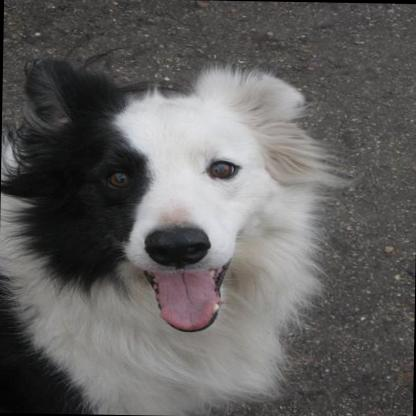Border_collie: (0, 54, 356, 416)
